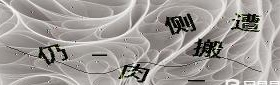chinese: (195, 34, 230, 61), (231, 11, 266, 34), (163, 14, 201, 34), (34, 43, 67, 65), (117, 61, 149, 83)
